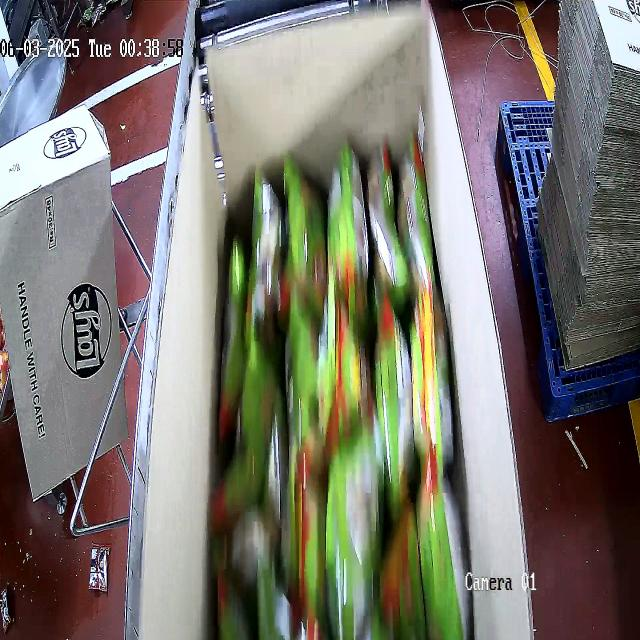YOGURT_HERB: (211, 128, 467, 638)
